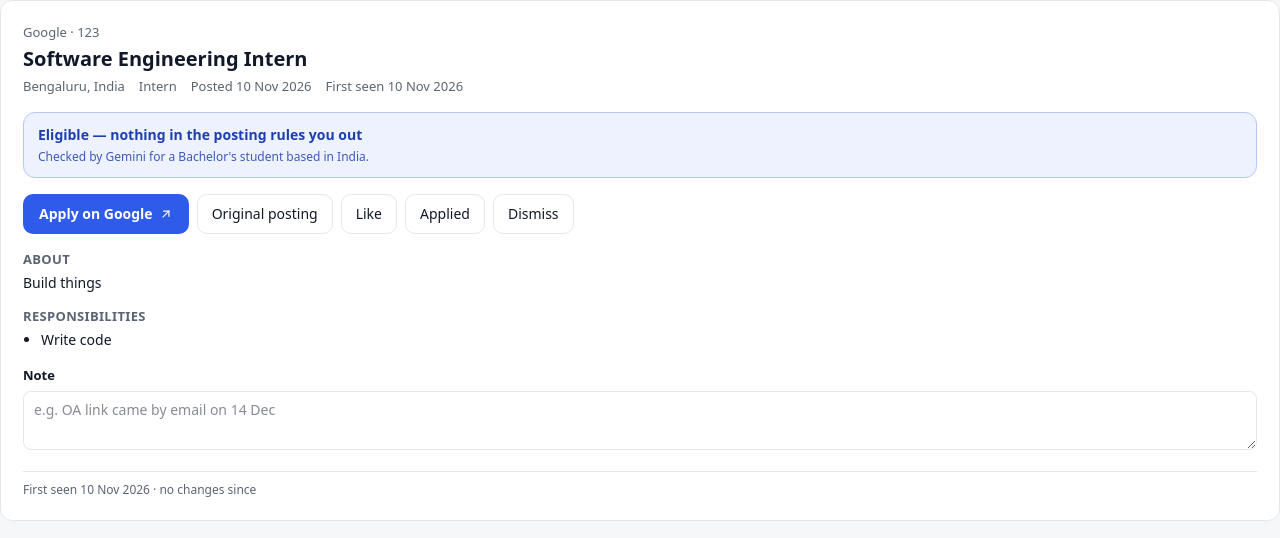
Test: saves the note after typing stops
The width and height of the screenshot is (1280, 538).
In the text box labelled "Note": {"x": 640, "y": 420} [23,391,1257,450], type "OA on 14 Dec"
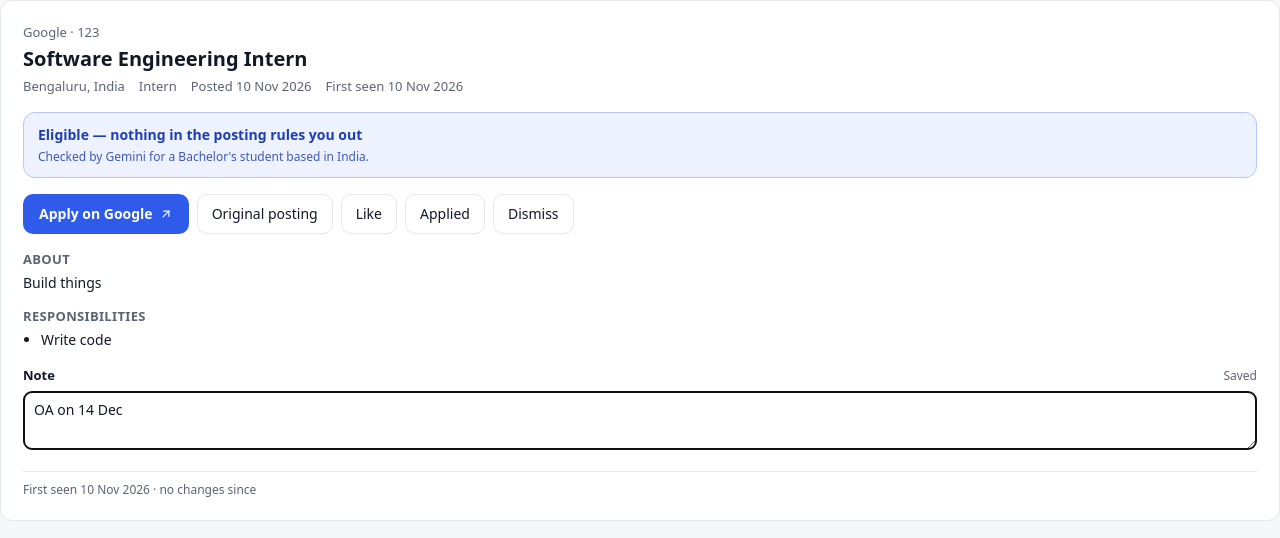
expect the text "Saved" is shown: met, box [1223,368,1257,384]
